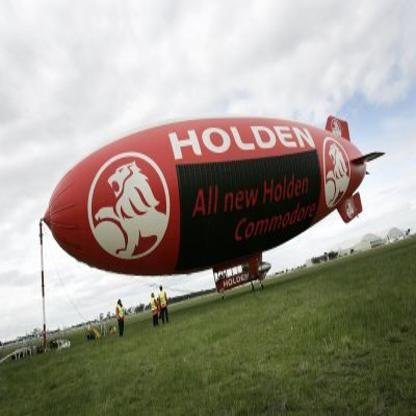Airship: (43, 115, 386, 269)
